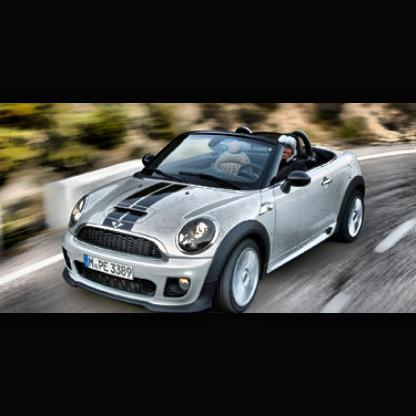MINI Cooper Roadster Convertible 2012: (65, 124, 368, 313)
